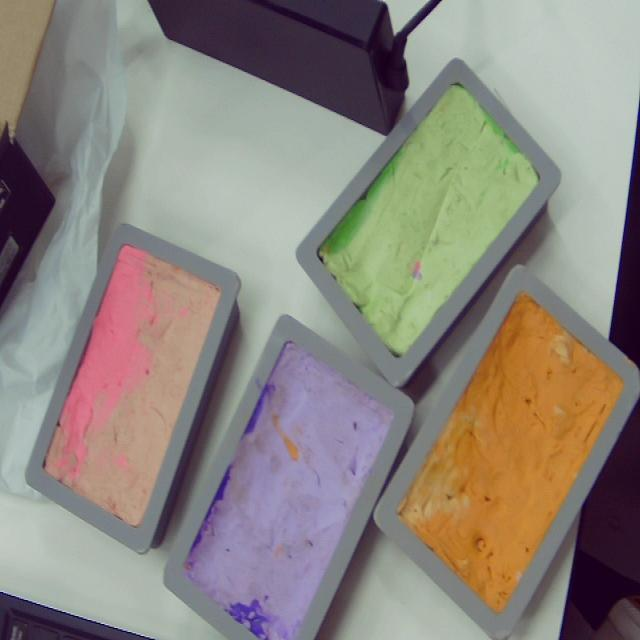block: (371, 267, 640, 640), (297, 59, 562, 390), (162, 314, 413, 640), (24, 221, 244, 557)
